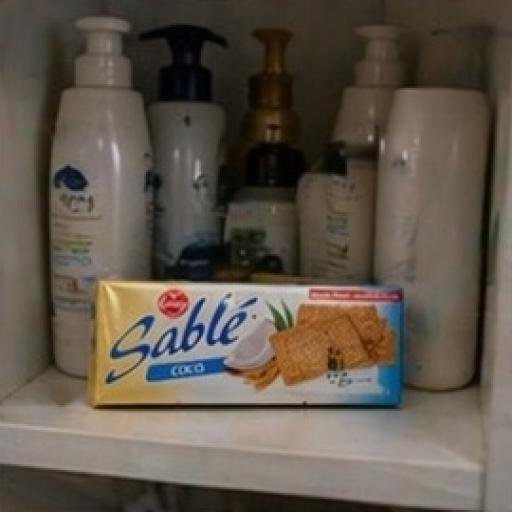sable: (66, 219, 453, 486)
